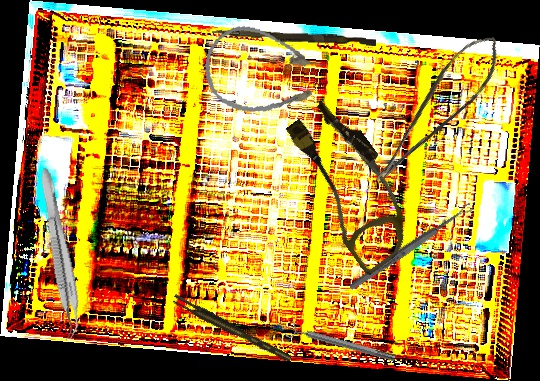Cannula: (269, 93, 433, 277), (197, 19, 331, 126)
Fixation Ring: (284, 318, 398, 369)
Micro Scissor: (350, 25, 517, 189)
Pusher: (211, 29, 377, 46)
Surgical Spoon: (347, 202, 475, 292)
Tissue Forceps: (29, 166, 88, 342), (171, 290, 292, 368)
